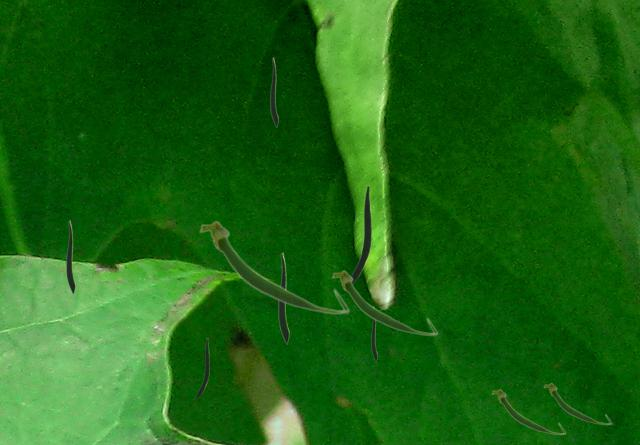french_bean: (198, 220, 349, 314), (331, 269, 437, 335), (491, 388, 565, 434), (543, 382, 611, 424), (351, 185, 370, 283), (278, 252, 288, 343), (194, 338, 208, 398), (66, 220, 74, 293), (270, 57, 277, 126), (371, 306, 376, 361)
